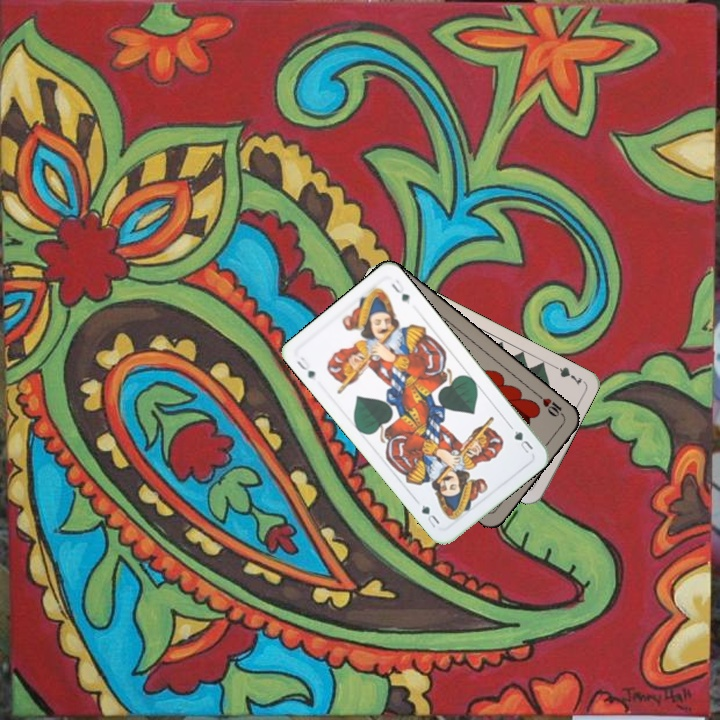G7: (547, 360, 585, 388)
GU: (510, 426, 536, 456), (293, 353, 318, 382)
H10: (533, 390, 567, 421)
